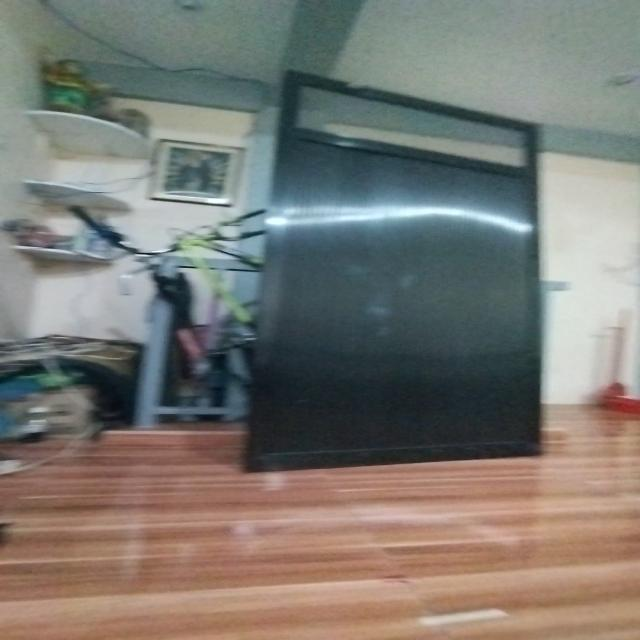door: (251, 77, 550, 478)
